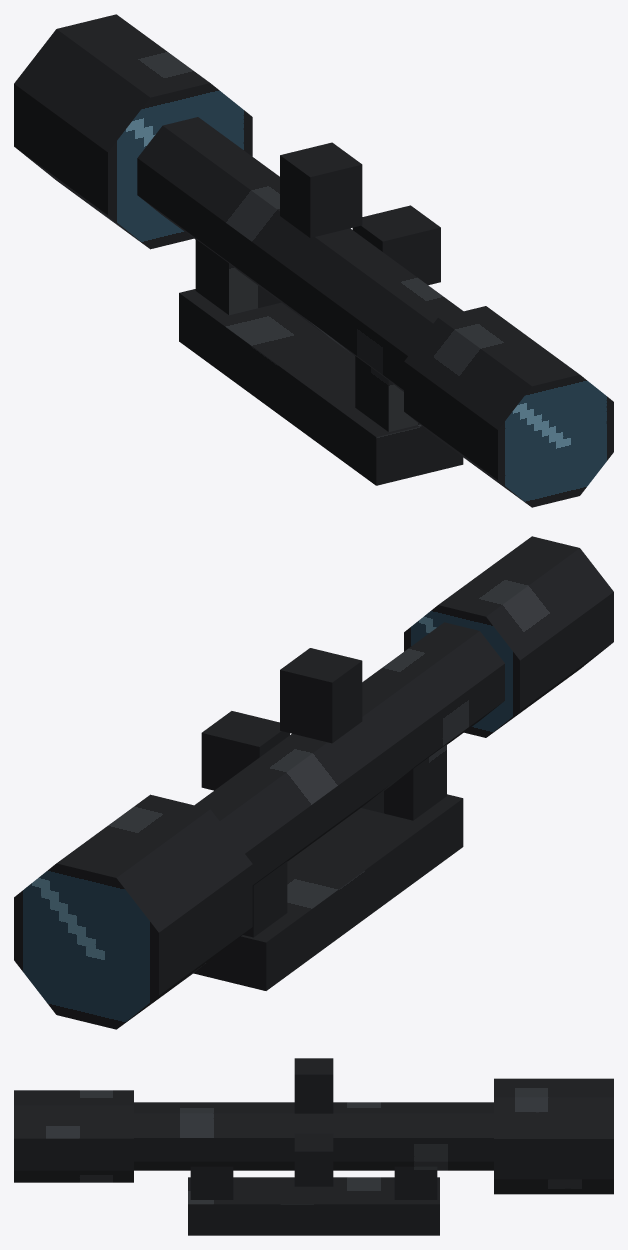
File: att_scope_8x.glb
3 renders of one model, top to bottom at view 1: azimuth 30°, elevation 25°; view 2: azimuth 150°, elevation 25°; view 3: azimuth 270°, elevation 25°, orthographic. The views are drawn at different scales.
Visible parts, largest first — view 1: Body; view 2: Body; view 3: Body.
Part boxes in pixels (left/top/right/bottom): Body: left=14, top=14, right=613, bottom=507; Body: left=14, top=536, right=613, bottom=1029; Body: left=14, top=1058, right=613, bottom=1235.
Bounding box in the file's own units: 0.0609 × 0.08 × 0.28.
Materials: 2 (2 with a texture image).
